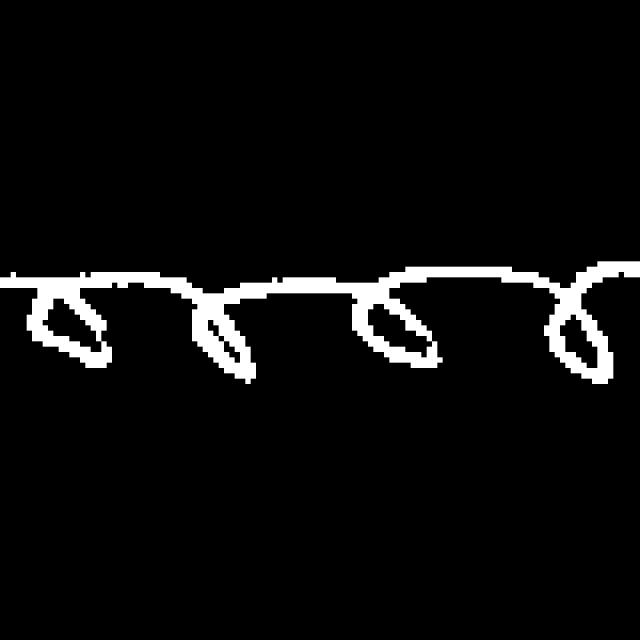inductor: (15, 240, 628, 429)
